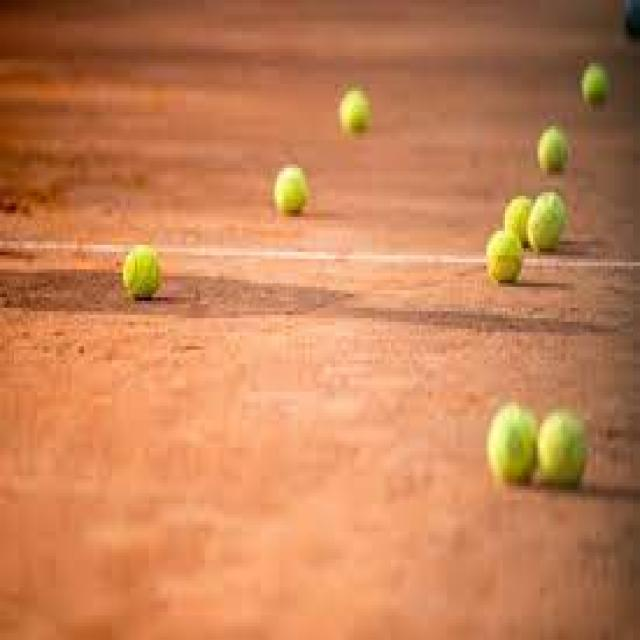Tennis Ball: (486, 402, 538, 486), (538, 413, 589, 490), (119, 248, 165, 304), (526, 192, 566, 255), (486, 227, 524, 287), (535, 126, 575, 182), (270, 164, 312, 217), (335, 84, 372, 140), (503, 196, 535, 252), (579, 63, 612, 112)
